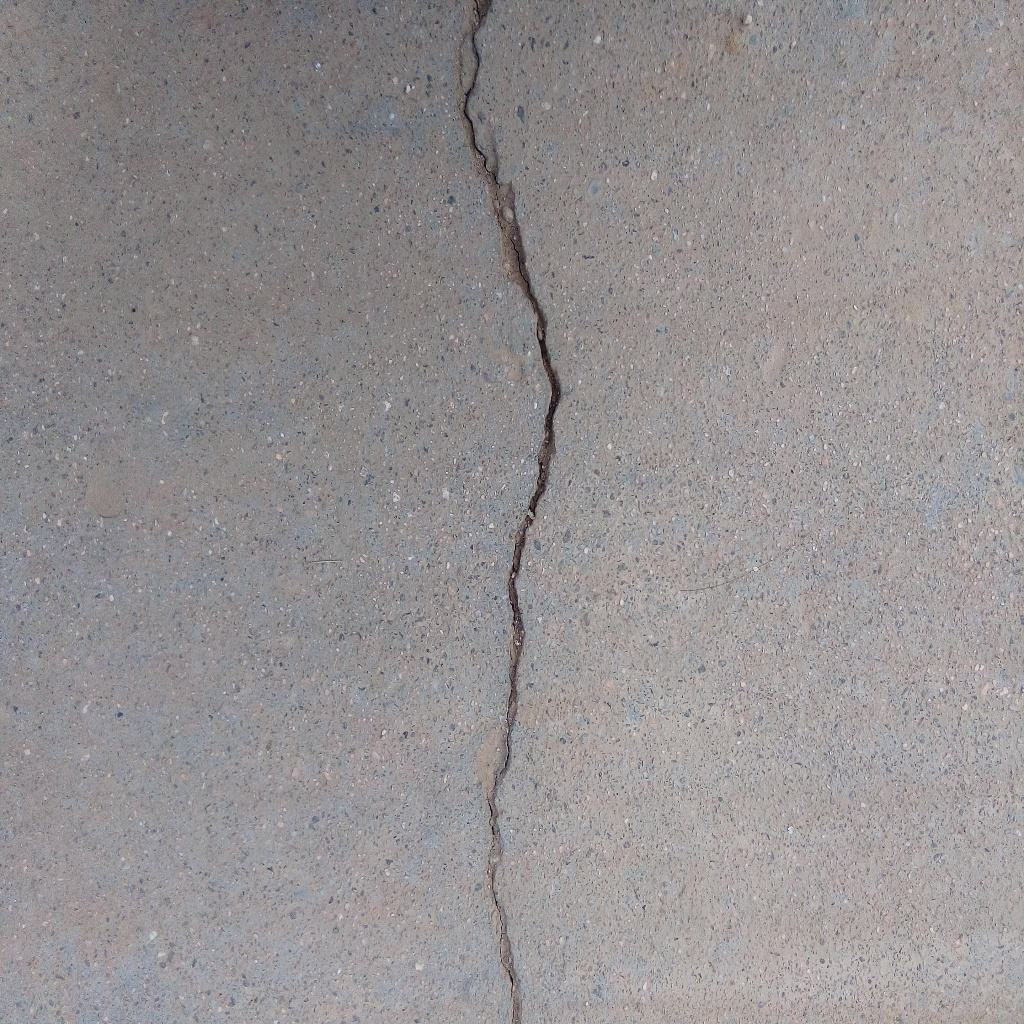Crack: (459, 1, 564, 1024)
